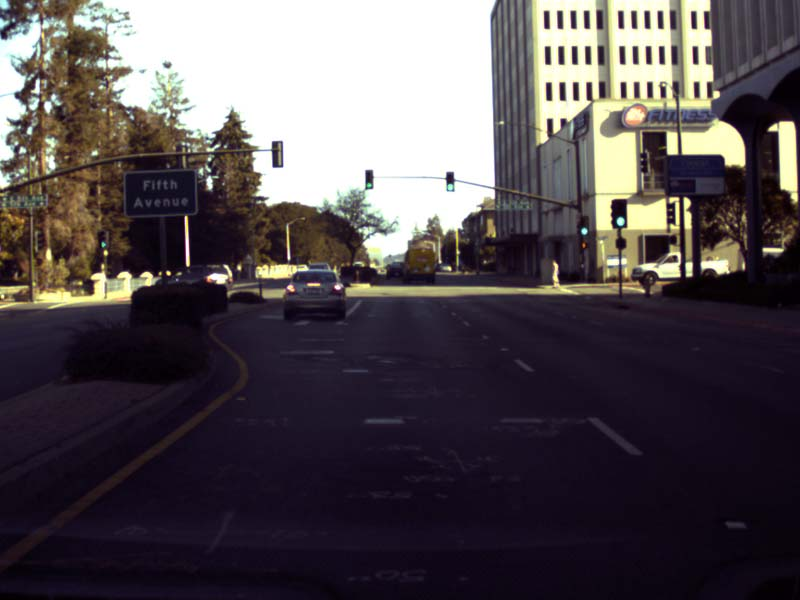Green: (612, 200, 626, 227), (580, 216, 588, 235), (99, 230, 106, 249), (365, 170, 372, 188), (446, 172, 453, 190)
